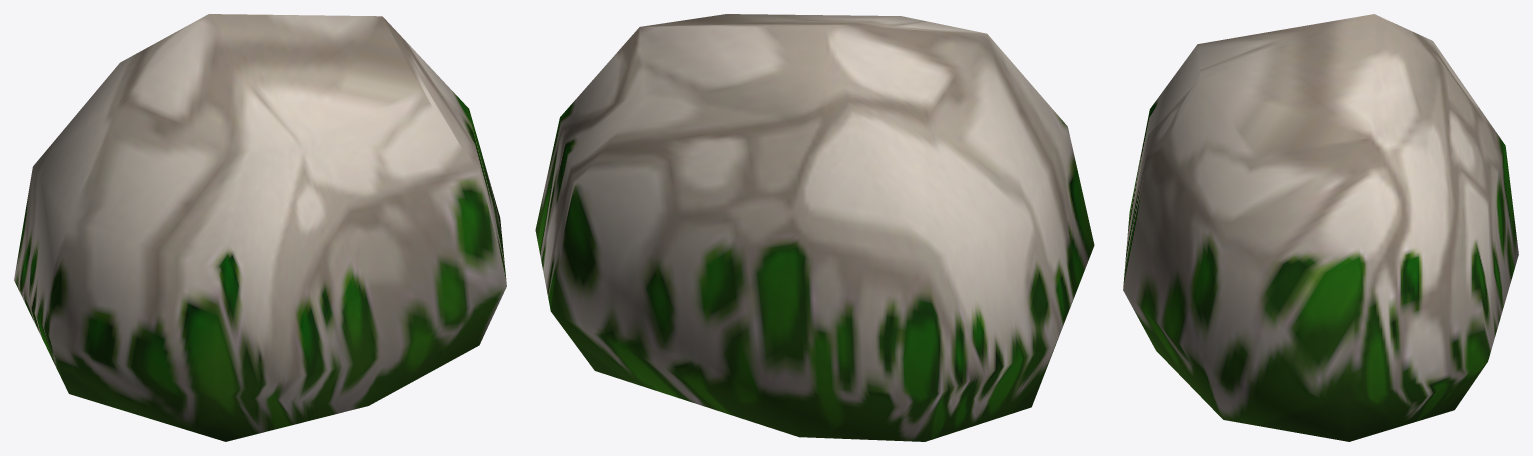
File: Rock_04.FBX
3 renders of one model, left to right at view 1: azimuth 30°, elevation 25°; view 2: azimuth 150°, elevation 25°; view 3: azimuth 270°, elevation 25°, orthographic. The views are drawn at different scales.
Visible parts, largest first — view 1: Rock_04; view 2: Rock_04; view 3: Rock_04.
Boxes of the visible parts, x1,y1,x2,y2 form: Rock_04: [14, 14, 506, 441]; Rock_04: [535, 14, 1094, 441]; Rock_04: [1123, 14, 1518, 441].
Bounding box in the file's own units: 0.7862 × 0.5274 × 0.5994.
